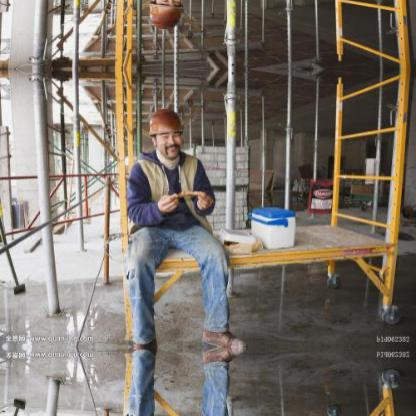helmet: (142, 108, 188, 160), (142, 0, 189, 30)
